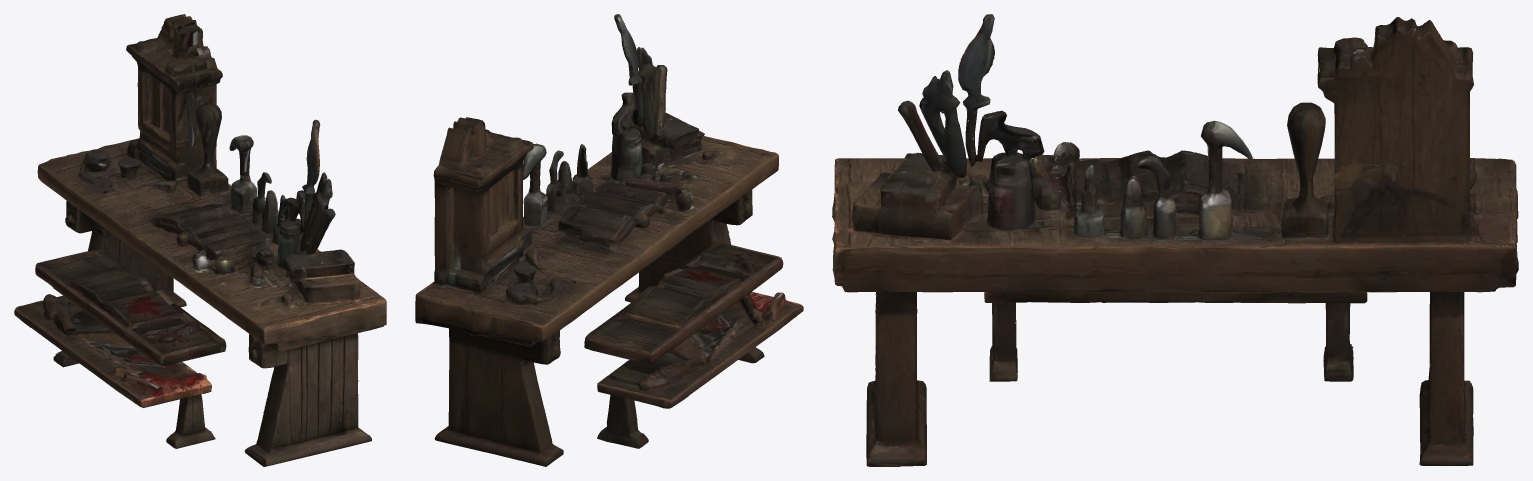
Rendered from crafting-bench.glb.
The picture shows the model from 3 angles, left to right: view 1: azimuth 30°, elevation 25°; view 2: azimuth 150°, elevation 25°; view 3: azimuth 270°, elevation 25°; orthographic projection. The views are drawn at different scales.
Parts seen in each view (by area): view 1: Mesh_0; view 2: Mesh_0; view 3: Mesh_0.
Part boxes in pixels (bbox=[...]): Mesh_0: bbox=[14, 14, 386, 466]; Mesh_0: bbox=[415, 14, 803, 466]; Mesh_0: bbox=[832, 14, 1518, 466].
Size of the model in its own units: 0.9903 by 1.42 by 2.
Materials: 1 (1 with a texture image).
